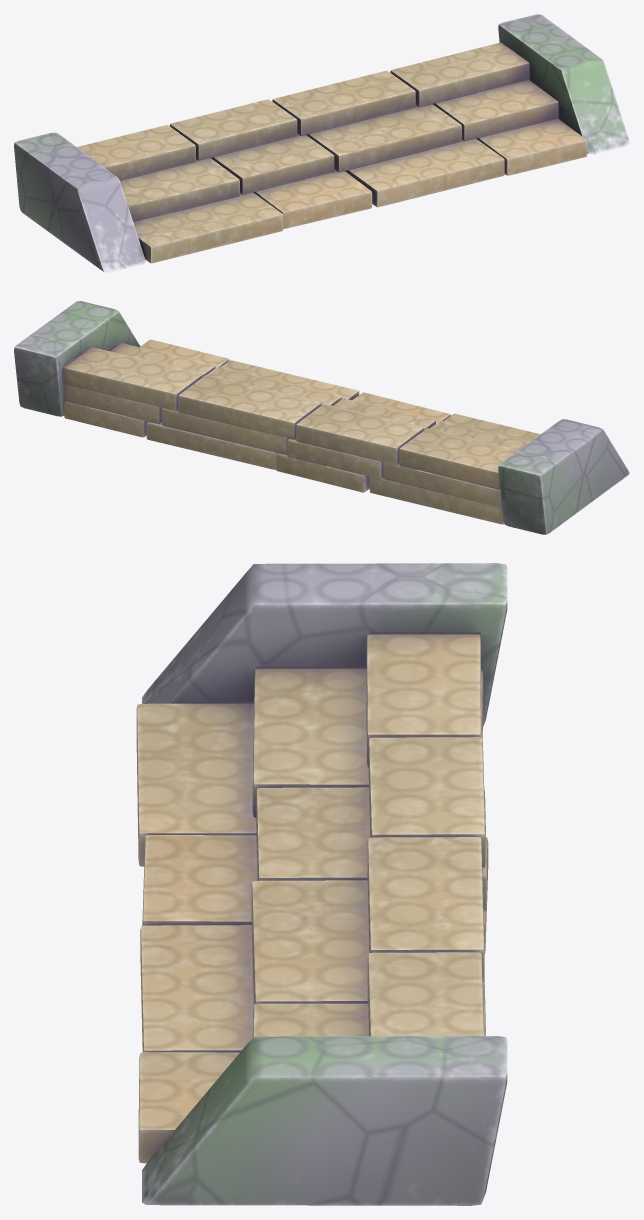
Rendered from EscalierPierre.fbx.
3 views of the same model, one above another, from view 1: azimuth 30°, elevation 25°; view 2: azimuth 150°, elevation 25°; view 3: azimuth 270°, elevation 25° (orthographic). The views are drawn at different scales.
Parts seen in each view (by area): view 1: EscalierPierre; view 2: EscalierPierre; view 3: EscalierPierre.
Part boxes in pixels (x1,y1,x2,y2): EscalierPierre: (14,14,629,272); EscalierPierre: (14,301,629,534); EscalierPierre: (136,563,507,1205).
Bounding box in the file's own units: 1920 × 230 × 584.
1 material, 1 textured.
